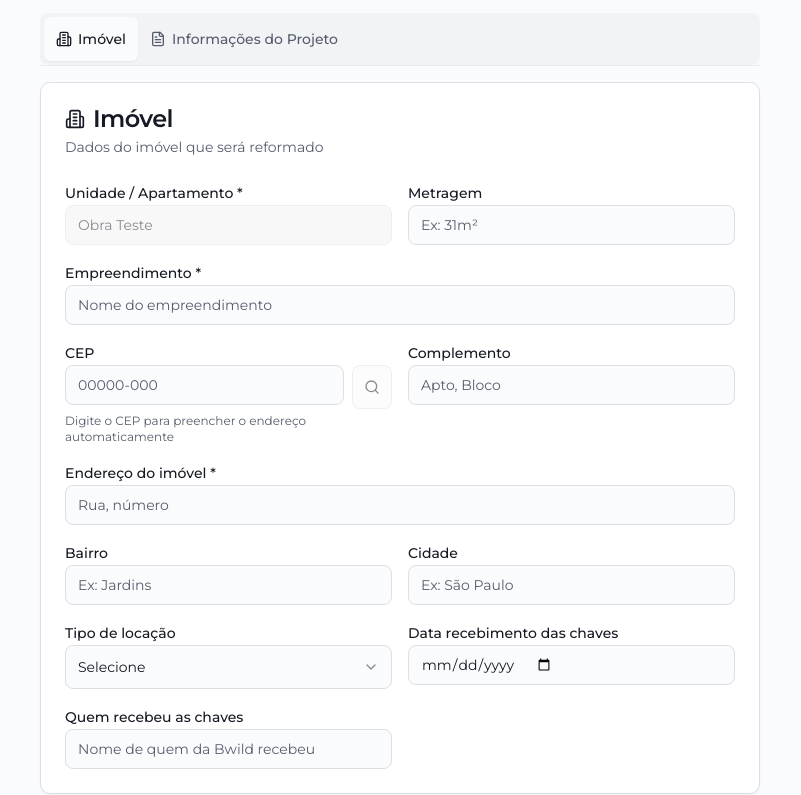
Test: DadosCliente · Ficha da obra (campos novos) › telefone da portaria inválido bloqueia o salvar
Click the tab "Informações do Projeto": click(244, 39) [138,17,350,61]
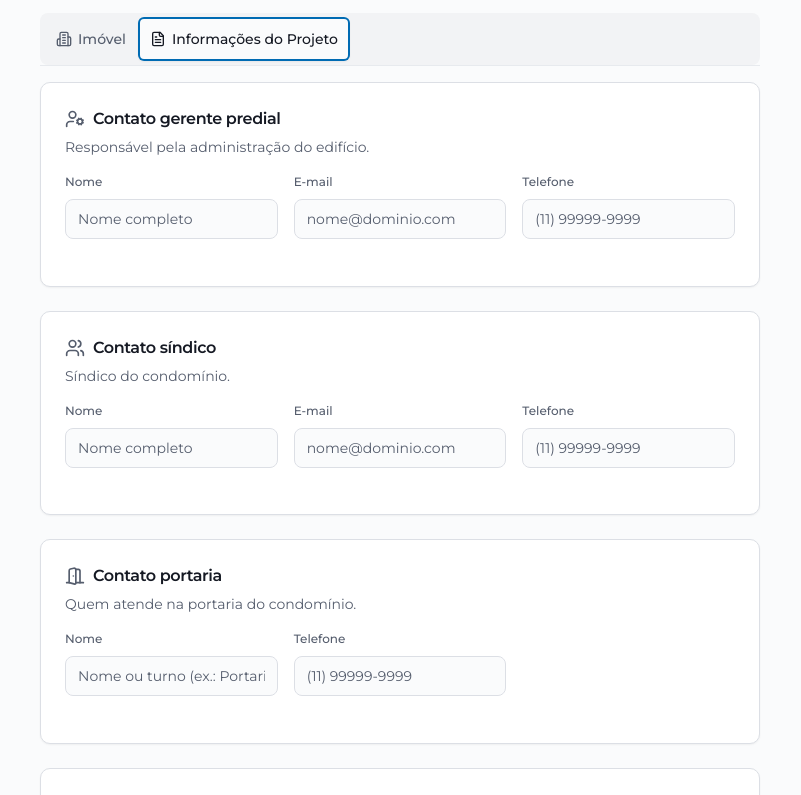
In the field with id "con-phone": (400, 676) [294,656,506,696], type "3333-4444"
(page scrolled)
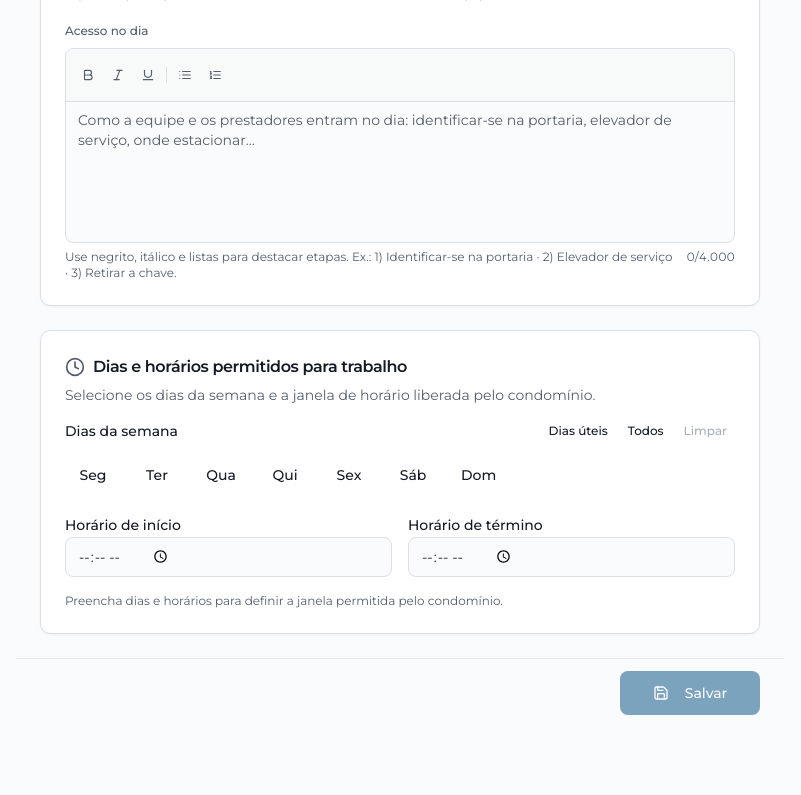
Expected: the button "Salvar" is disabled, [620,670,760,714]
